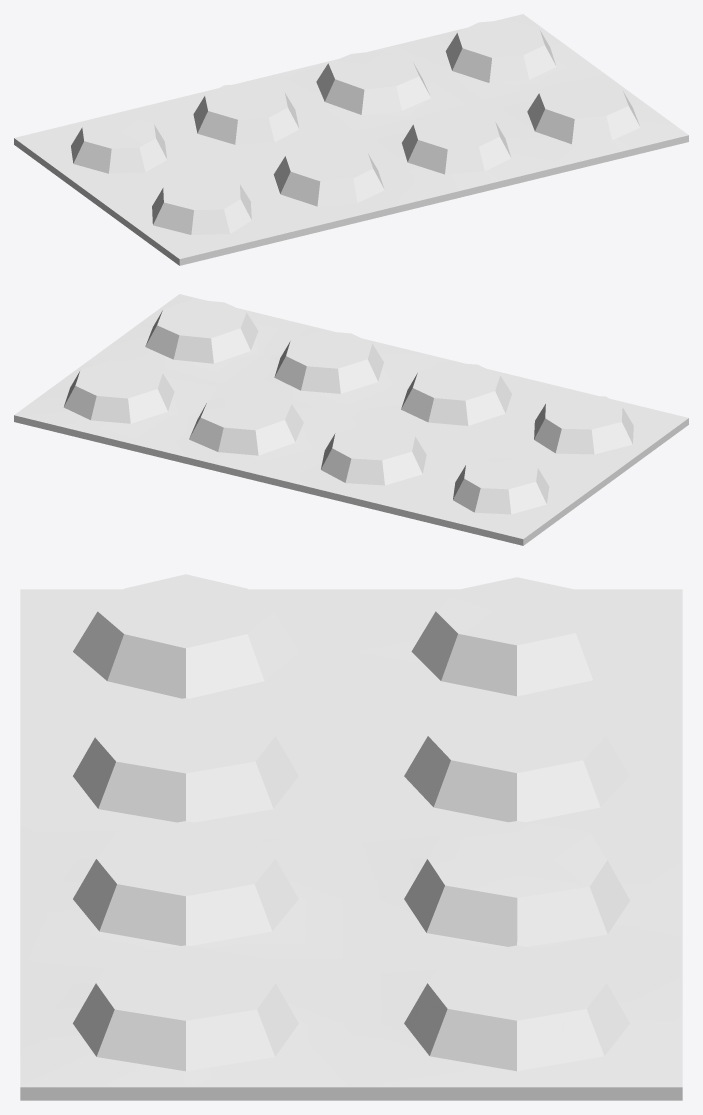
Rendered from pillstrip.FBX.
The picture shows the model from 3 angles, top to bottom: view 1: azimuth 30°, elevation 25°; view 2: azimuth 150°, elevation 25°; view 3: azimuth 270°, elevation 25°; orthographic projection. The views are drawn at different scales.
Parts seen in each view (by area): view 1: Box001; view 2: Box001; view 3: Box001.
Boxes of the visible parts, bbox=[...] form: Box001: bbox=[14, 14, 688, 265]; Box001: bbox=[14, 294, 688, 545]; Box001: bbox=[20, 574, 682, 1100].
Size of the model in its own units: 4.91 by 0.2572 by 2.76.
Materials: 1 (1 with a texture image).
